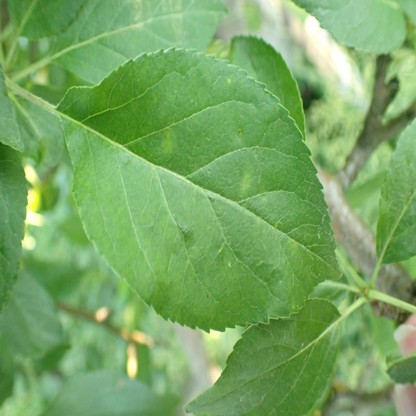scab: (169, 0, 182, 34), (160, 131, 173, 153), (242, 174, 250, 193), (289, 238, 295, 247)
